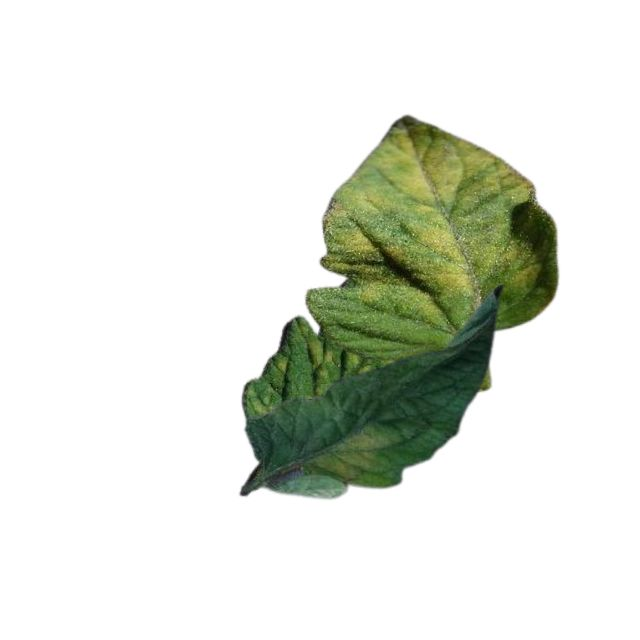Leaf_Mold: (317, 117, 557, 320), (308, 419, 395, 489), (305, 337, 337, 396), (240, 384, 280, 418)
